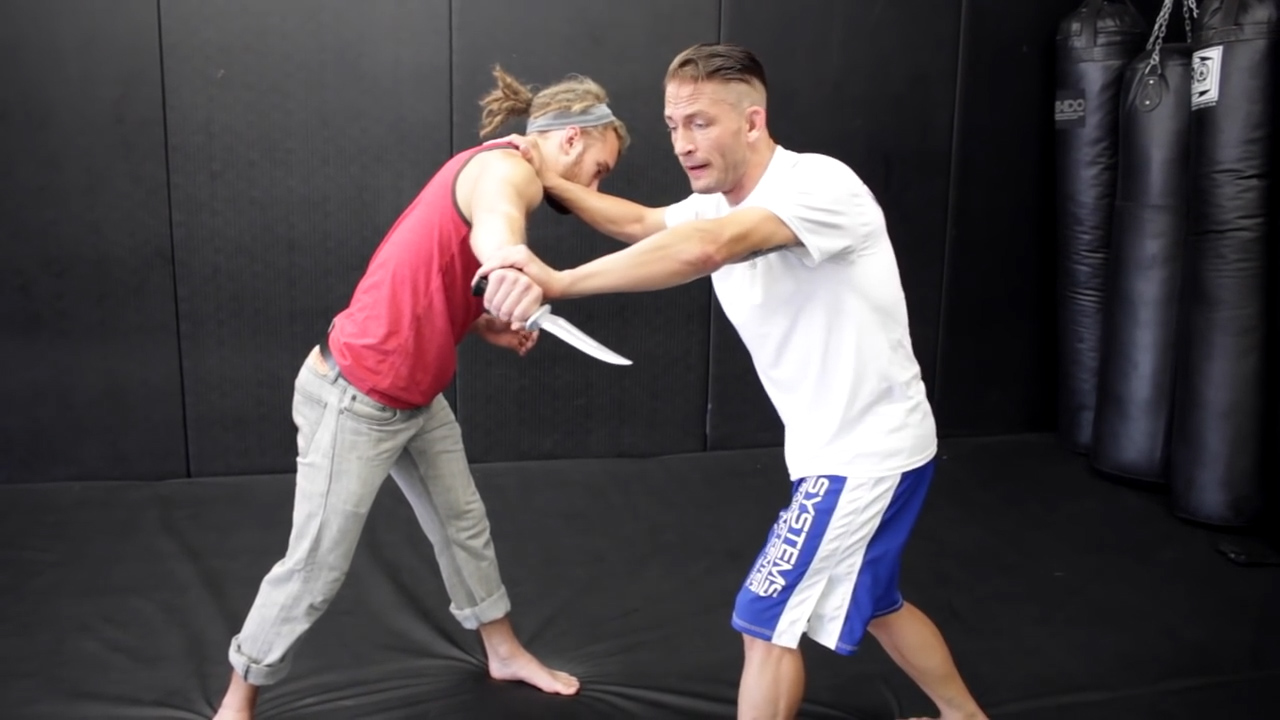knife: (469, 266, 643, 382)
